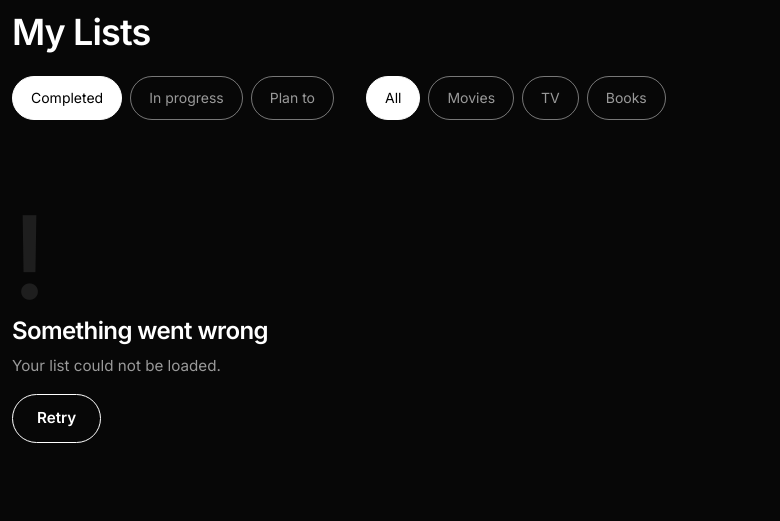
Test: MyLists › shows an error with Retry when the list fails to load
Click the button "Retry" at {"x": 57, "y": 418}, box [12, 394, 101, 443]
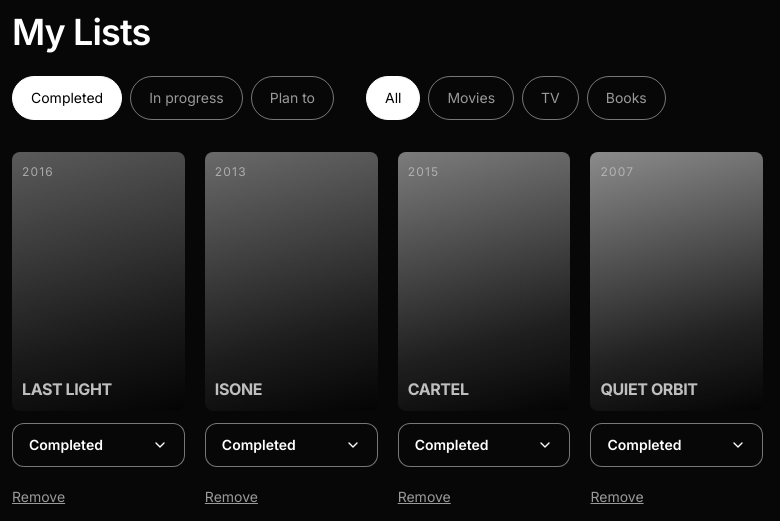
Expected: the link "2016 Last Light" is shown, [12, 152, 185, 411]
